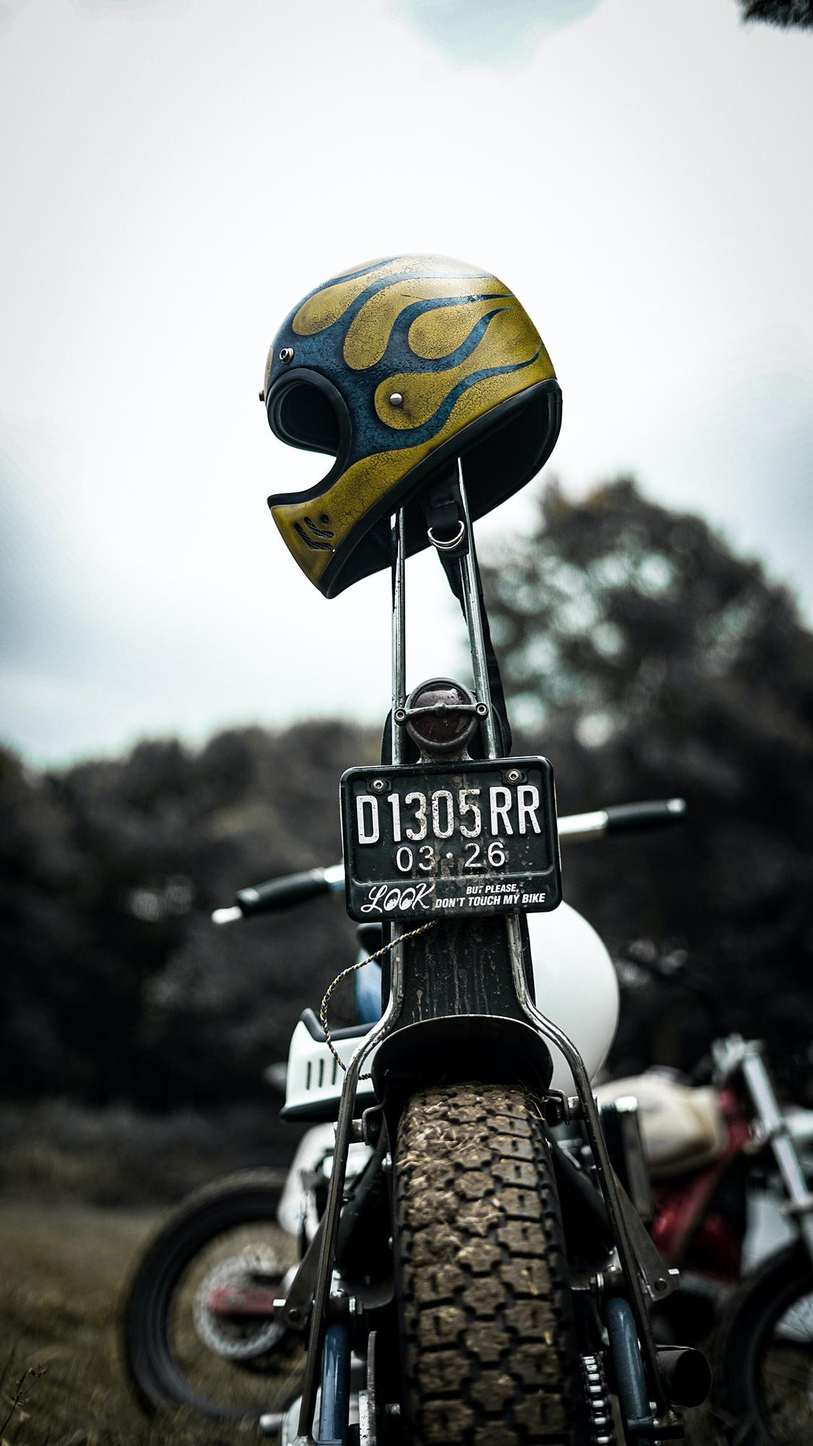helmet: (257, 250, 564, 601)
